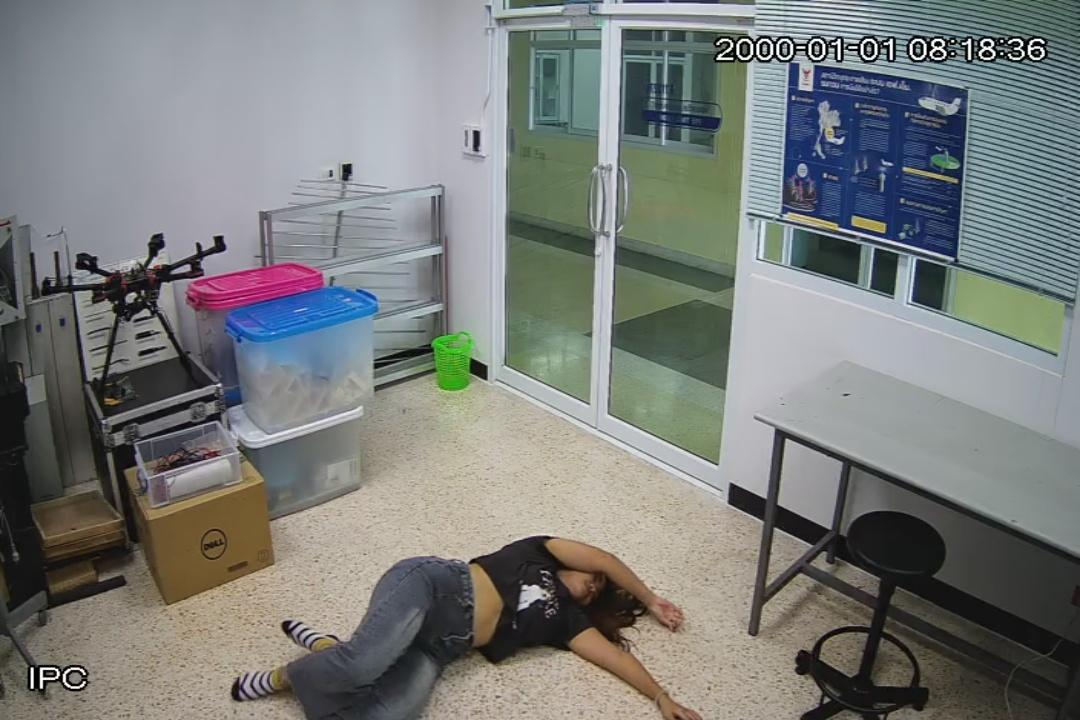fall: (234, 503, 703, 720)
